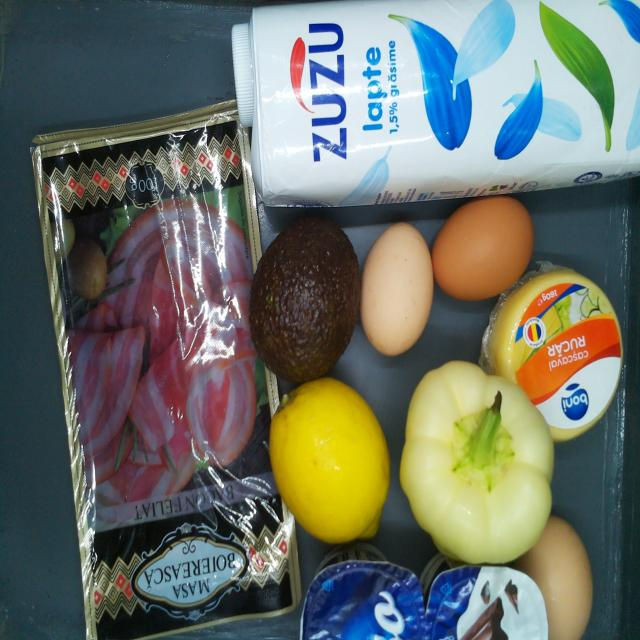avocado: (250, 222, 361, 378)
bacon: (38, 131, 287, 636)
cheese: (486, 269, 626, 437)
eggs: (436, 198, 534, 298), (361, 222, 433, 356), (540, 518, 591, 640)
lemon: (275, 382, 388, 546)
milk: (231, 2, 640, 204)
pepper: (404, 360, 554, 566)
yogurt: (303, 550, 427, 640), (426, 568, 546, 640)
